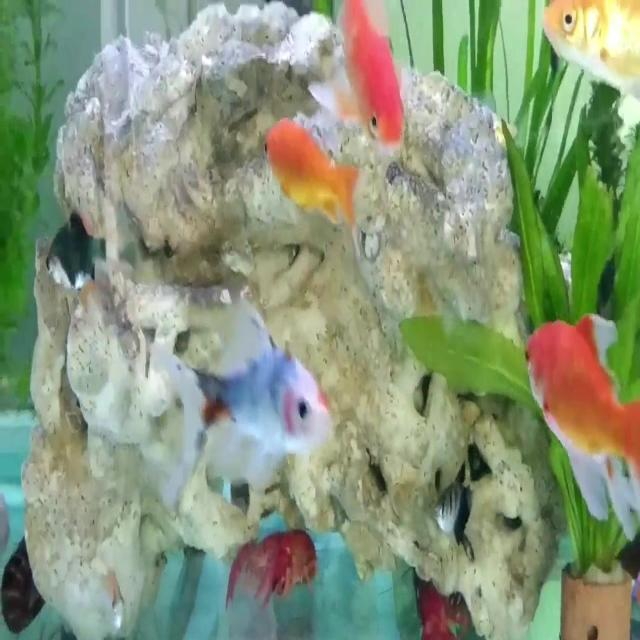GoldFish: (517, 299, 640, 538), (328, 0, 412, 172), (261, 110, 361, 248)
